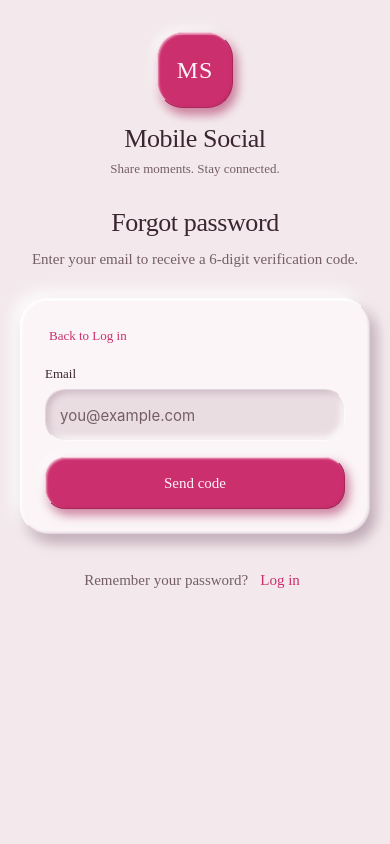
Test: ForgotPasswordScreen (Phase 2) › shows validation error when email is empty on submit
The width and height of the screenshot is (390, 844).
Click the button with aria-label "Send reset code" at [195, 483], box [45,457,345,509]
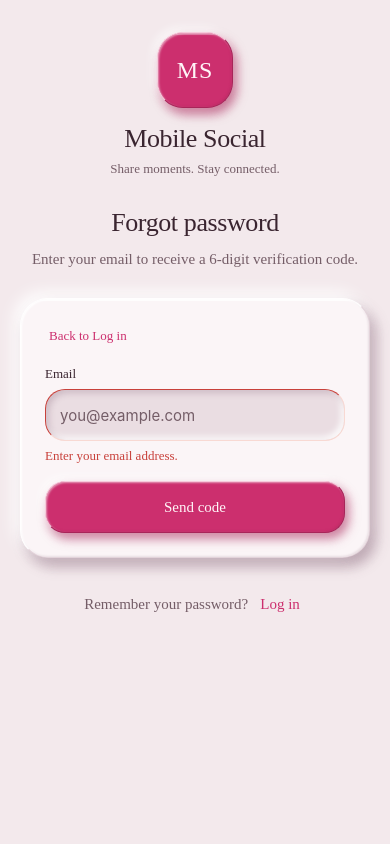
Now the text "Enter your email address." is shown, box [45,448,178,463]
